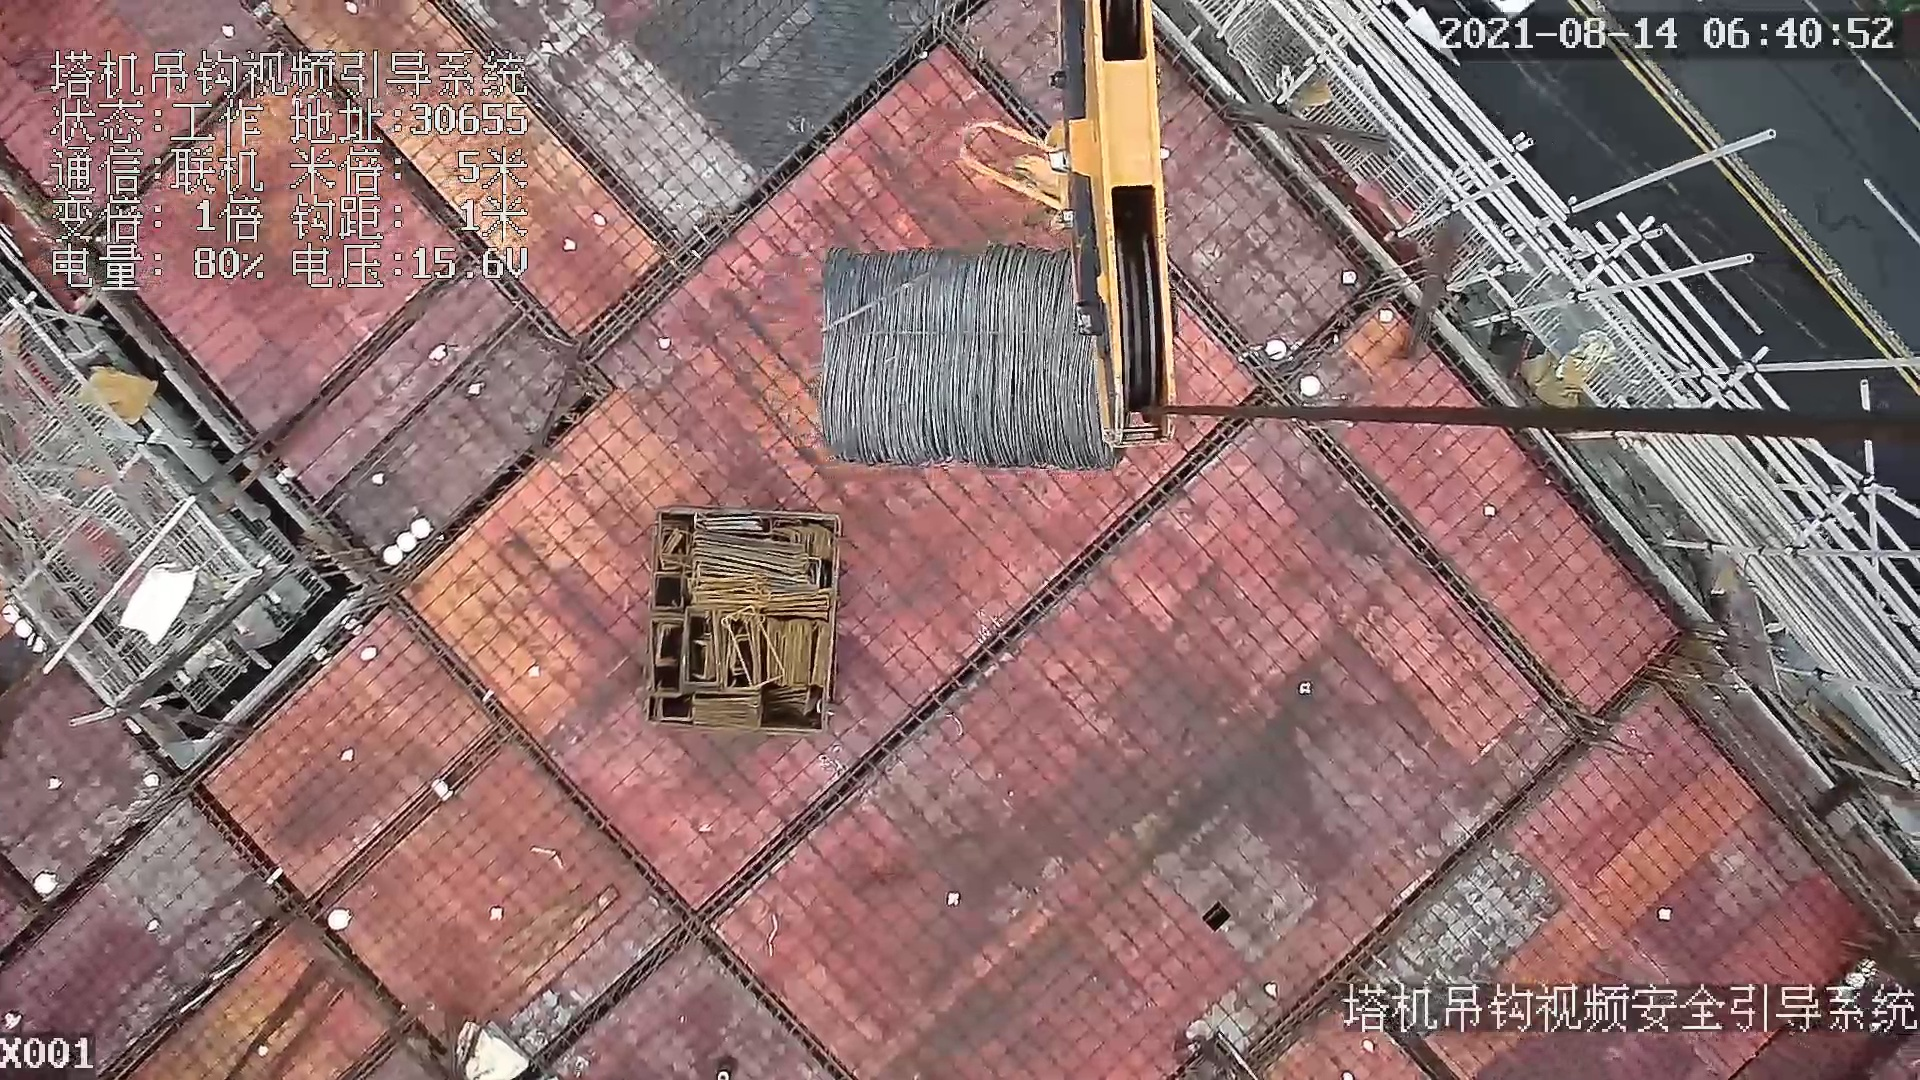hook: (959, 1, 1178, 450)
